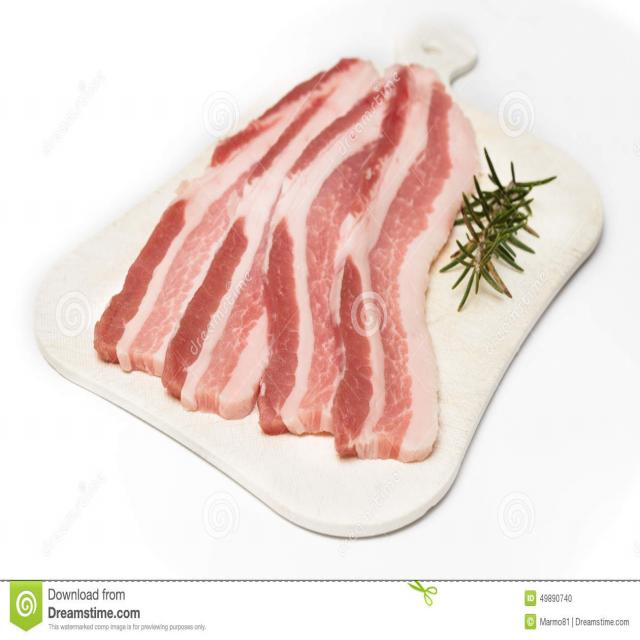Bacon Slice: (96, 62, 357, 376), (161, 60, 378, 422), (331, 62, 474, 456), (263, 62, 401, 438)
